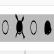correct: (44, 17, 52, 39)
no answer: (2, 17, 10, 37), (30, 18, 37, 37)
not correct: (15, 13, 25, 40)
